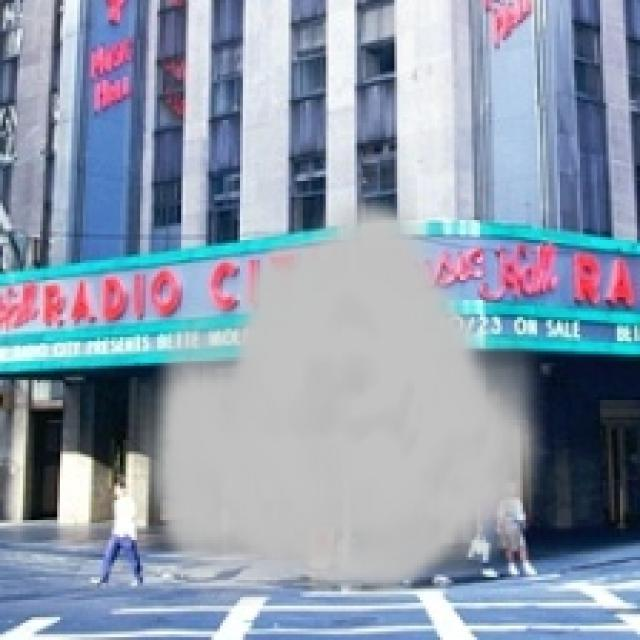Smoke: (140, 188, 554, 606)
